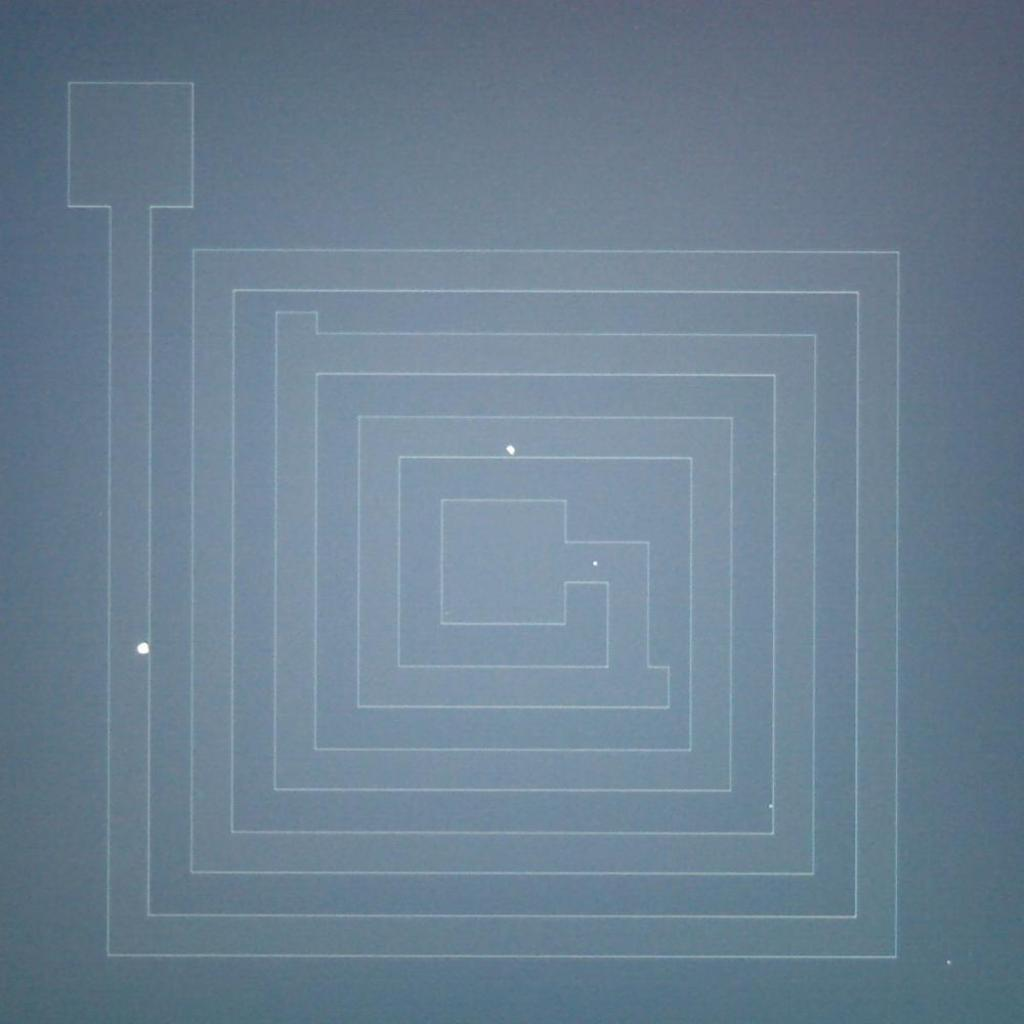budge circuit: (634, 650, 678, 722), (268, 304, 334, 346)
dot: (930, 942, 966, 979), (578, 547, 612, 573)
spot: (127, 631, 161, 665), (498, 436, 524, 461)
